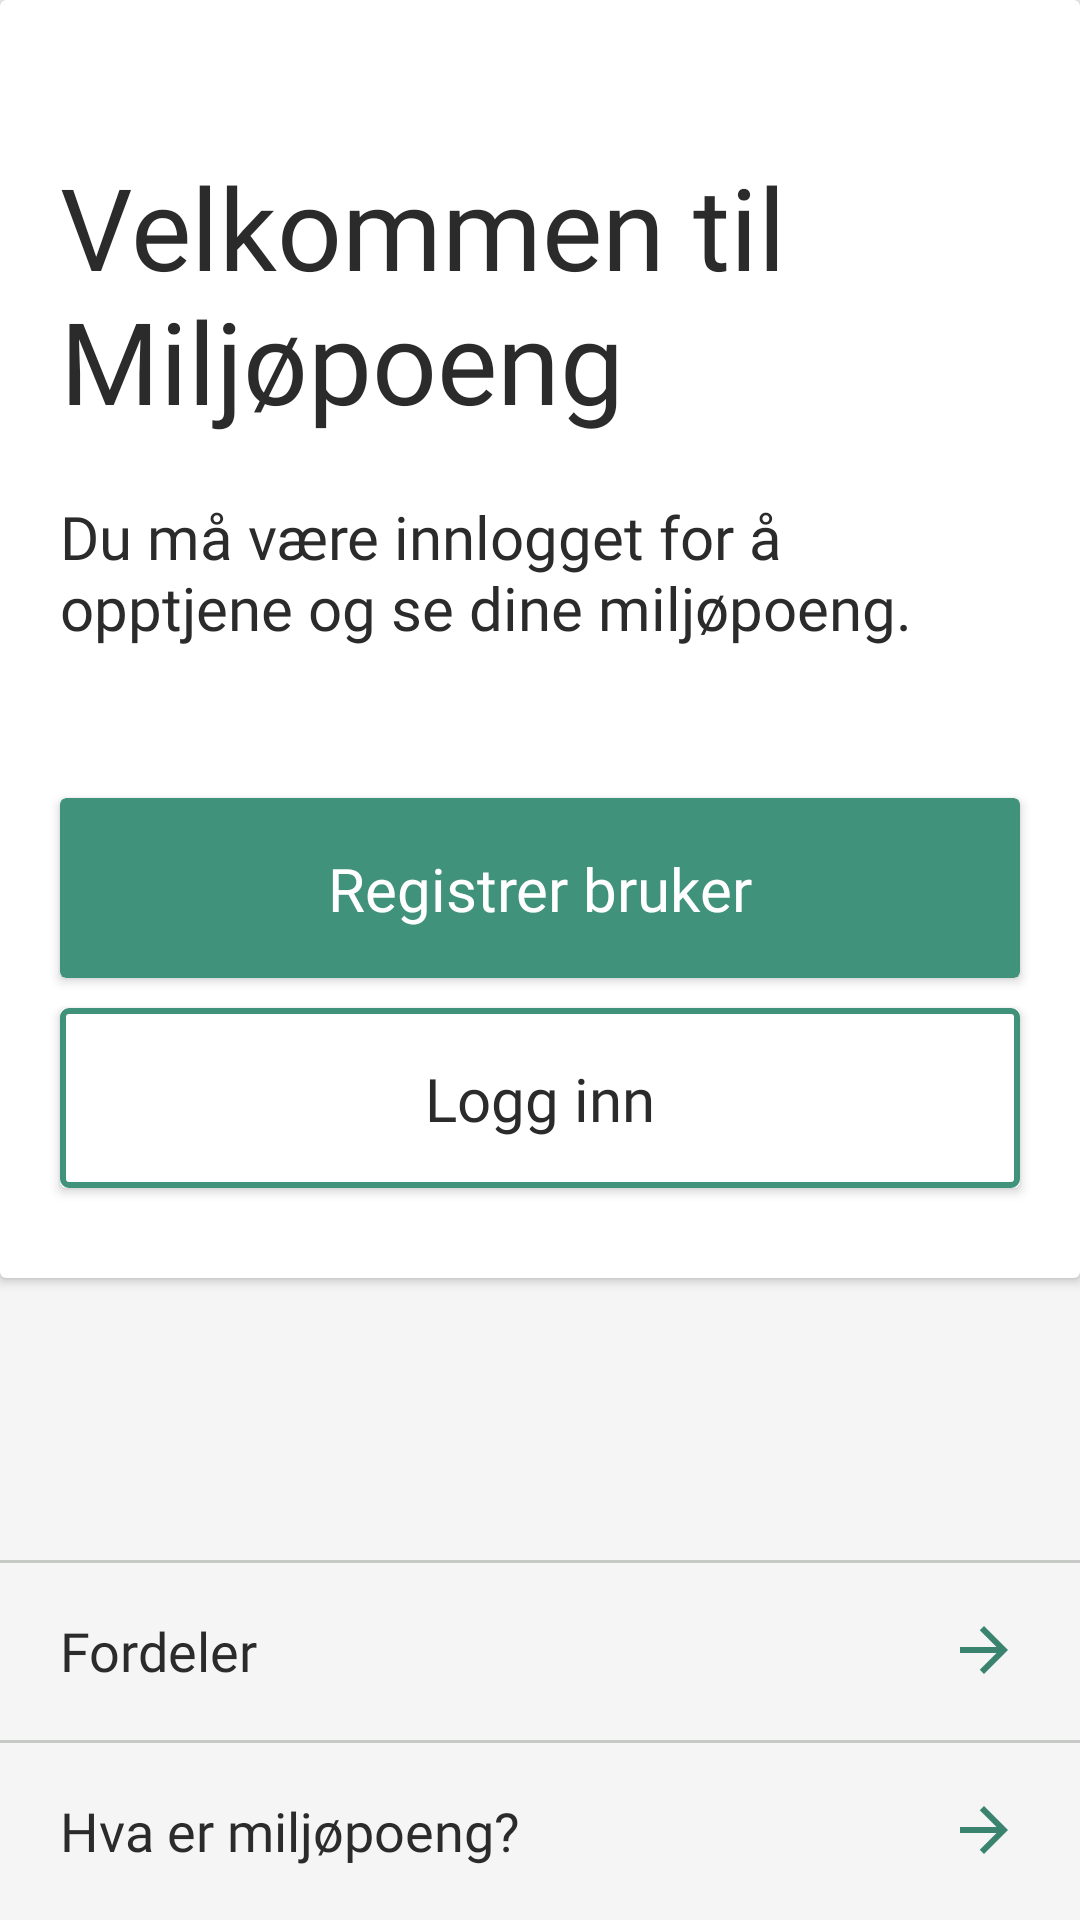

Icons on this 1080w x 1920h Android screen, each with the point to tap as (x=x, y=y):
arrow: (x=984, y=1650), (x=984, y=1830)
